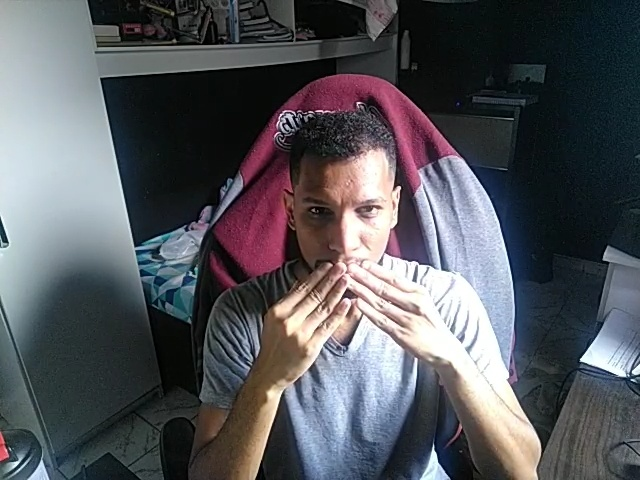obrigado: (244, 255, 458, 378)
